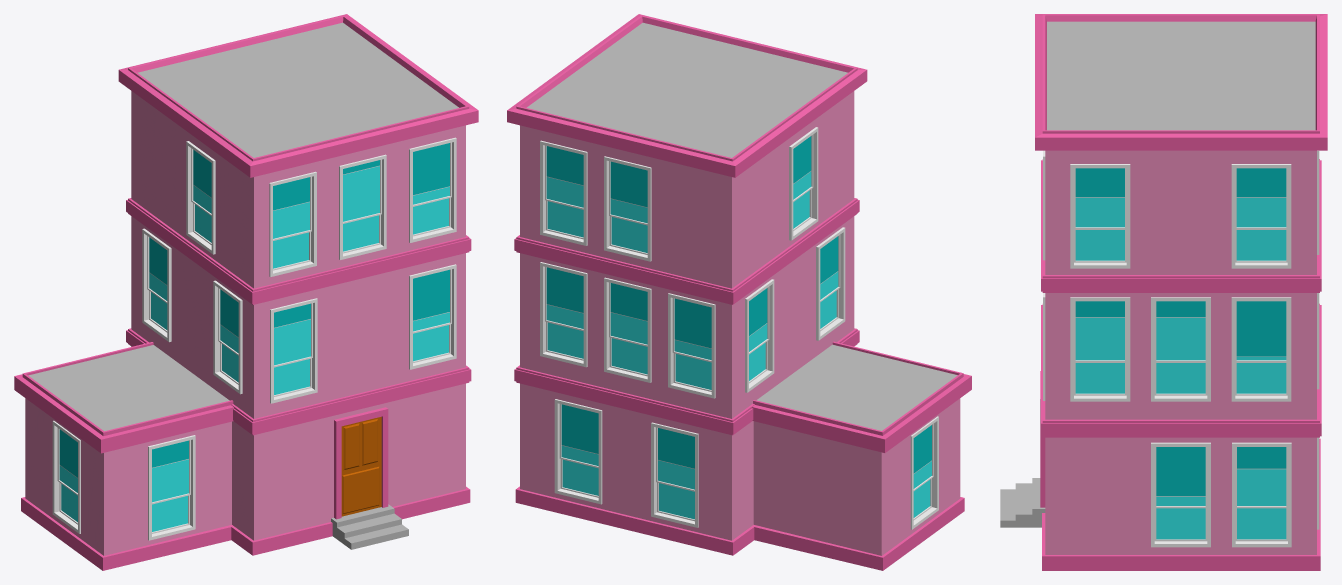
File: SM_House_03_04.FBX
The picture shows the model from 3 angles, left to right: view 1: azimuth 30°, elevation 25°; view 2: azimuth 150°, elevation 25°; view 3: azimuth 270°, elevation 25°; orthographic projection. The views are drawn at different scales.
Visible parts, largest first — view 1: SM_House_03_04; view 2: SM_House_03_04; view 3: SM_House_03_04.
Part boxes in pixels (x1=…): SM_House_03_04: x1=14, y1=14, x2=478, y2=570; SM_House_03_04: x1=507, y1=14, x2=971, y2=570; SM_House_03_04: x1=1000, y1=14, x2=1327, y2=570.
Size of the model in its own units: 6.7 by 7.14 by 4.81.
1 material, 1 textured.
